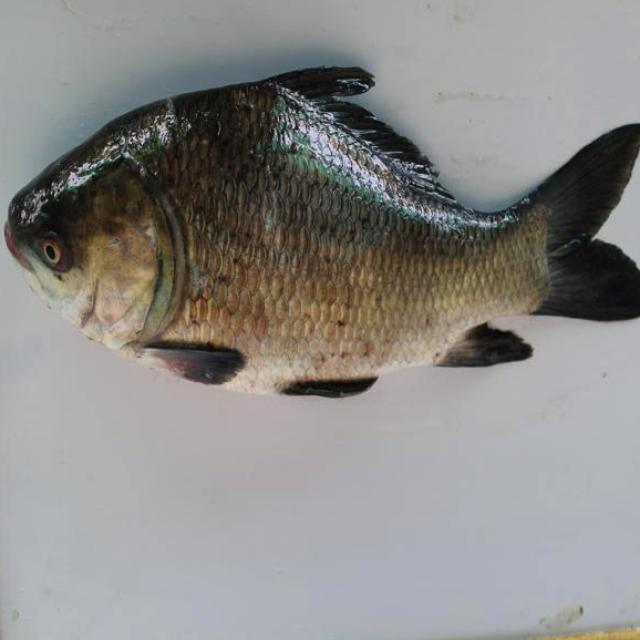Catla: (5, 65, 640, 399)
